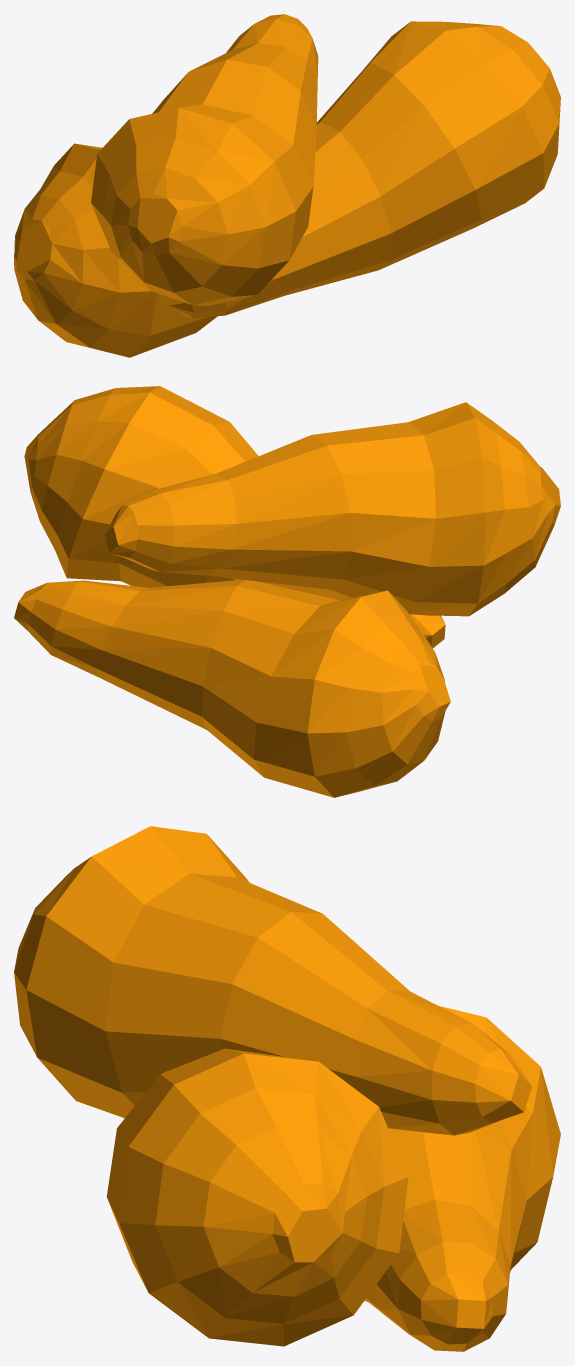
The model's file is yam.glb.
3 views of the same model, one above another, from view 1: azimuth 30°, elevation 25°; view 2: azimuth 150°, elevation 25°; view 3: azimuth 270°, elevation 25° (orthographic). The views are drawn at different scales.
Visible parts, largest first — view 1: Node; view 2: Node; view 3: Node.
Part boxes in pixels (bbox=[...]): Node: bbox=[14, 14, 560, 357]; Node: bbox=[14, 386, 560, 797]; Node: bbox=[14, 826, 560, 1351].
Bounding box in the file's own units: 0.3988 × 0.2546 × 0.2939.
